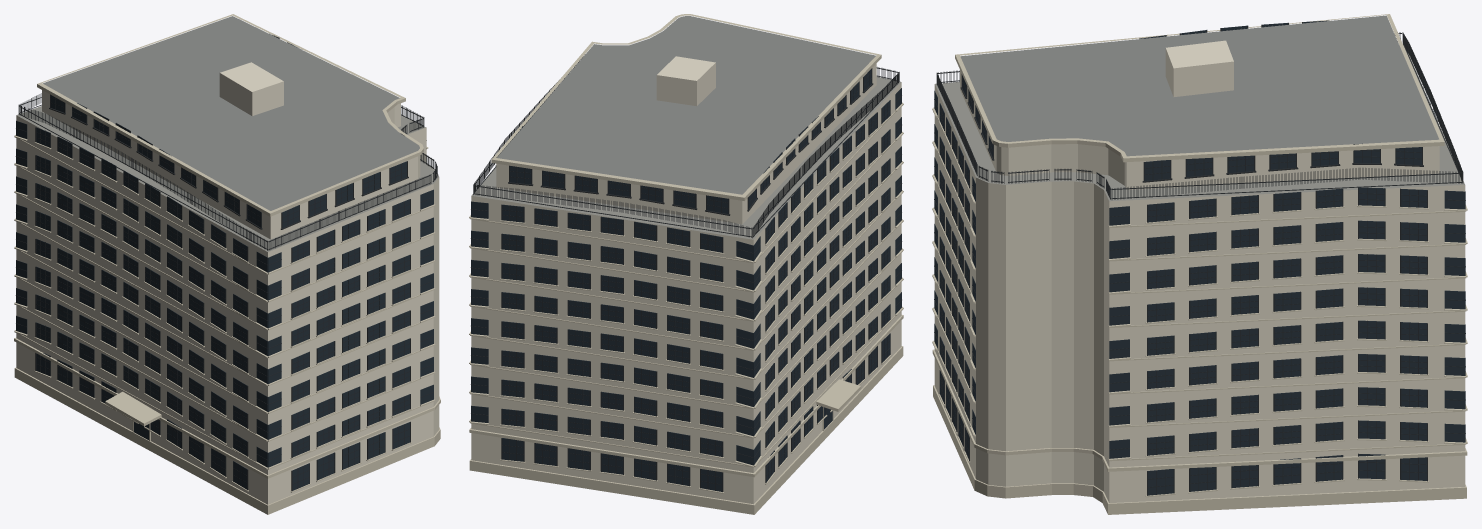
File: princes_gate_59_63.glb
The picture shows the model from 3 angles, left to right: view 1: azimuth 30°, elevation 25°; view 2: azimuth 150°, elevation 25°; view 3: azimuth 270°, elevation 25°; orthographic projection. The views are drawn at different scales.
Bounding box in the file's own units: 32.72 × 35.99 × 43.73.
